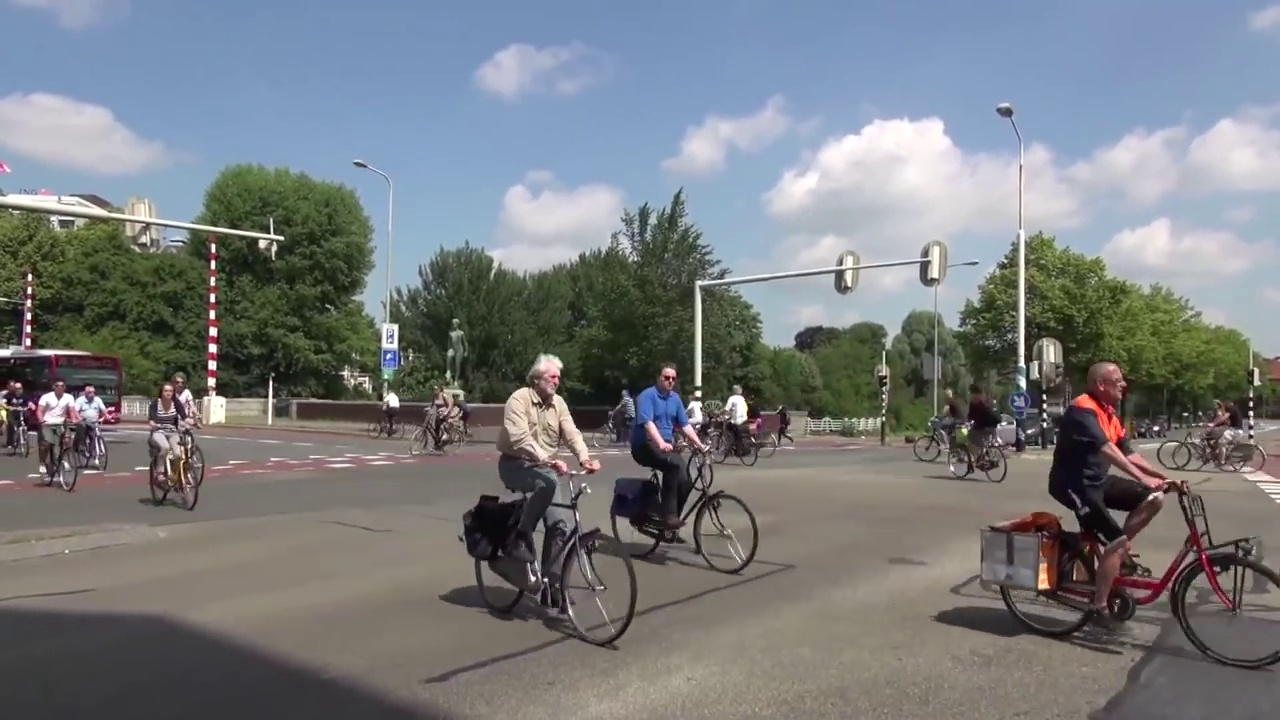cyclist_front: (69, 376, 123, 482), (35, 389, 87, 492), (7, 379, 43, 458)
cyclist_side: (997, 366, 1273, 671), (465, 346, 636, 643), (603, 336, 764, 556), (138, 387, 208, 515), (1162, 400, 1264, 479), (951, 391, 1020, 489), (702, 381, 766, 471), (910, 391, 971, 461), (364, 383, 407, 444)
